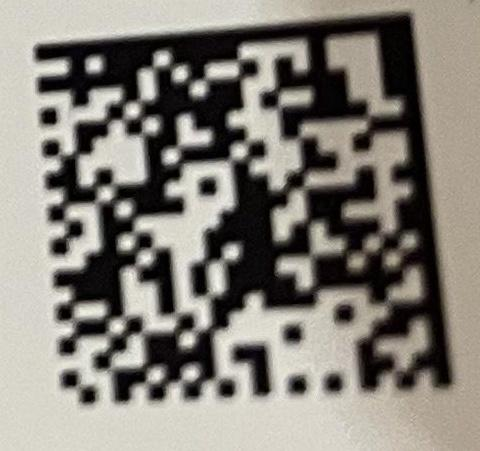datamatrix: (36, 14, 454, 406)
